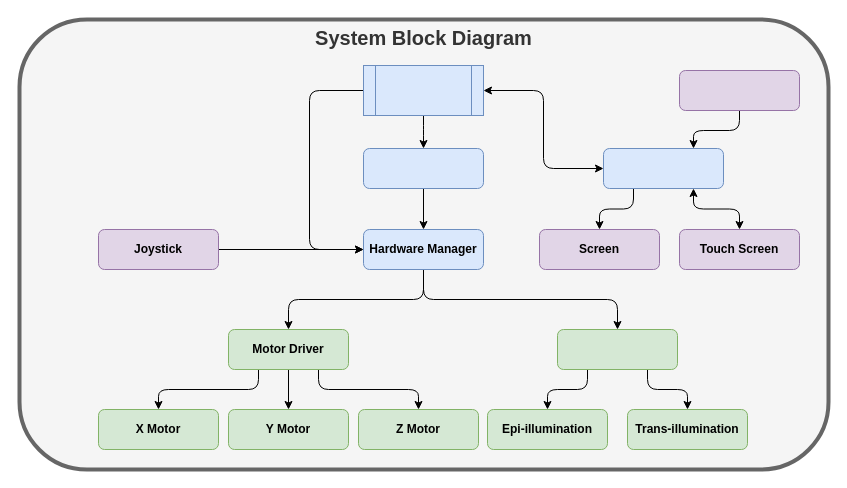
This 847x488 diagram has some shape labels left out. The shapes that lost their labels are listed below. From the top down, each one's box as (x1, y1, x2, y2) in pixels, then its label:
(362, 64, 484, 116): Core Software
(678, 70, 800, 110): Mouse/Keyboard
(362, 148, 484, 188): Algorithms
(602, 148, 724, 188): UI
(556, 328, 678, 370): Light Driver
